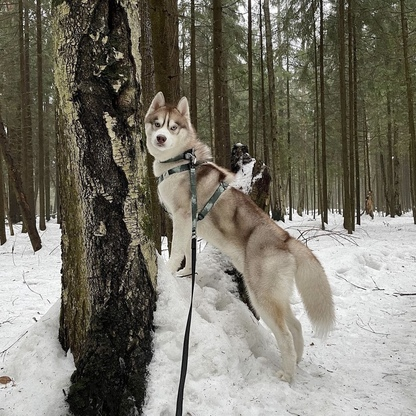husky: (137, 87, 343, 387)
